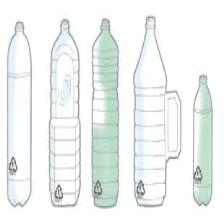plastic: (135, 15, 183, 213), (52, 18, 83, 207), (93, 17, 121, 211), (3, 24, 31, 208), (193, 71, 218, 207)
